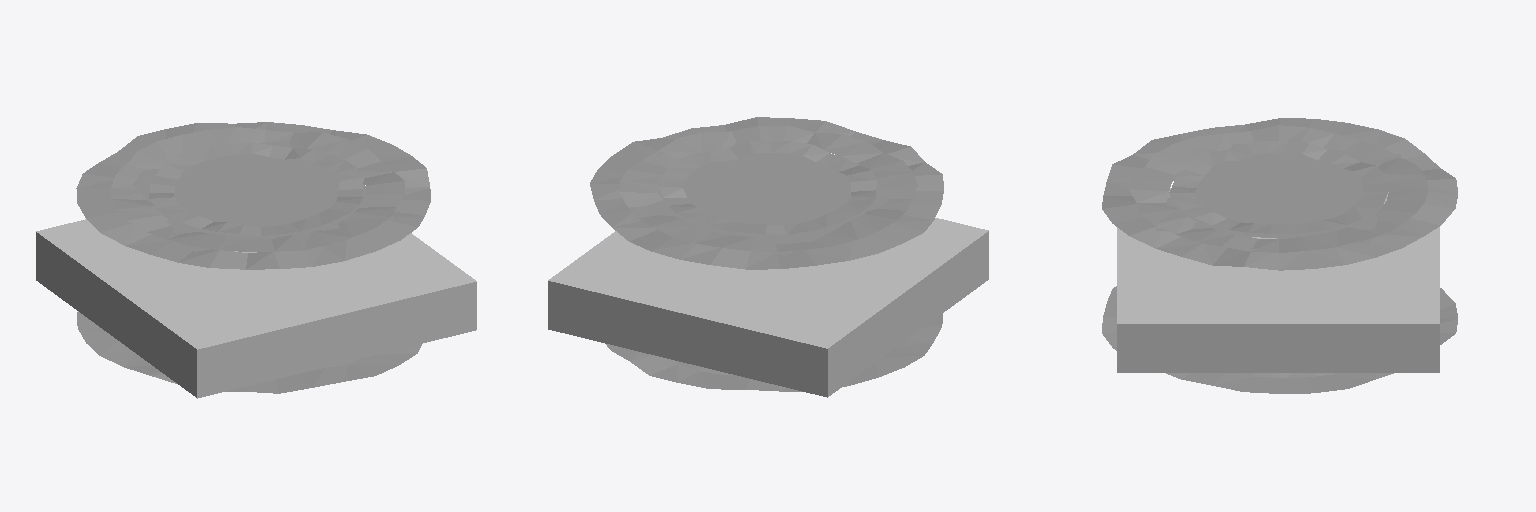
File: zm_buy_marker_double.obj
3 views of the same model, side by side, from view 1: azimuth 30°, elevation 25°; view 2: azimuth 150°, elevation 25°; view 3: azimuth 270°, elevation 25° (orthographic).
Visible parts, largest first — view 1: c_c, g_scroll, g_scroll_slow, g_icon; view 2: c_c, g_scroll, g_scroll_slow, g_icon; view 3: c_c, g_scroll, g_scroll_slow, g_icon.
Part boxes in pixels (x1,y1,x2,y2): c_c: (36, 219, 476, 398); g_scroll: (76, 122, 430, 393); g_scroll_slow: (111, 127, 405, 370); g_icon: (118, 140, 395, 251); c_c: (548, 218, 988, 397); g_scroll: (590, 117, 943, 391); g_scroll_slow: (619, 126, 917, 374); g_icon: (618, 142, 918, 255); c_c: (1117, 188, 1439, 372); g_scroll: (1102, 118, 1457, 393); g_scroll_slow: (1129, 125, 1427, 377); g_icon: (1156, 144, 1400, 244).
Bounding box in the file's own units: 67.09 × 28.29 × 66.28.